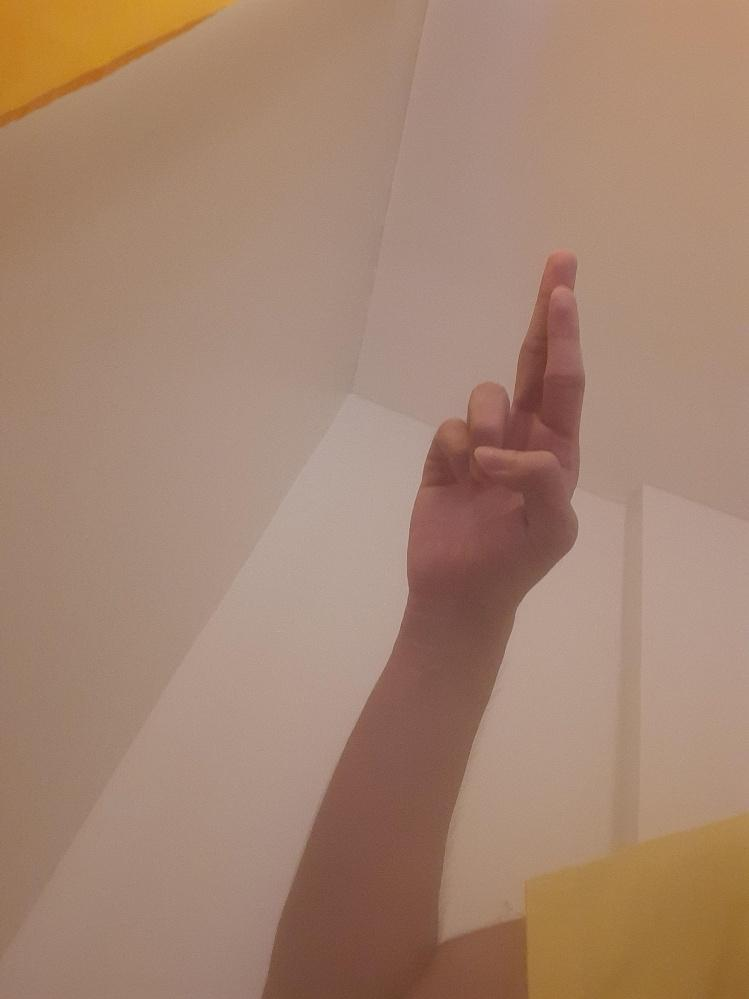r: (406, 250, 585, 595)
